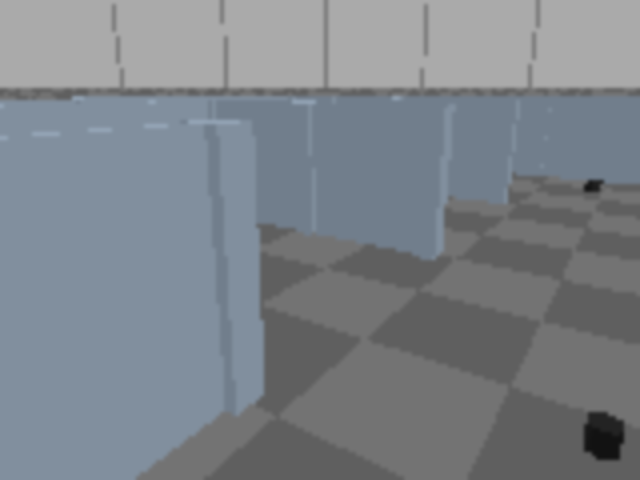puck: (587, 413, 622, 460)
